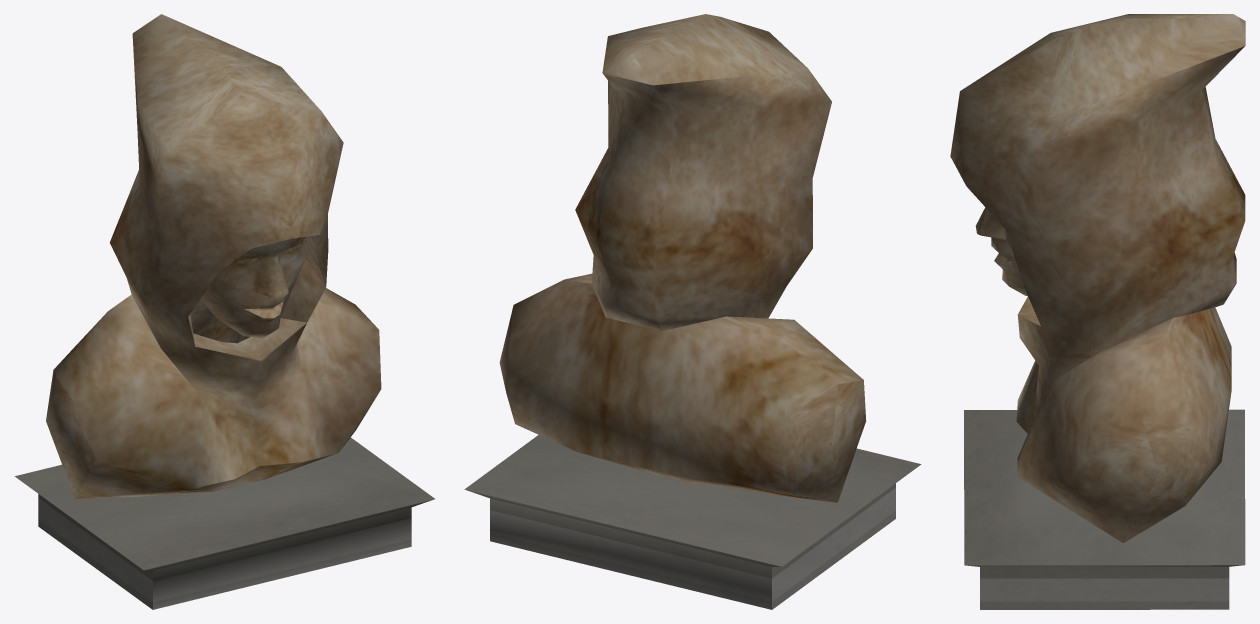
The model's file is cor1_prop_library_bustC.fbx.
3 views of the same model, side by side, from view 1: azimuth 30°, elevation 25°; view 2: azimuth 150°, elevation 25°; view 3: azimuth 270°, elevation 25° (orthographic). The views are drawn at different scales.
Visible parts, largest first — view 1: COR1_prop_library_bustC, polymsh26; view 2: COR1_prop_library_bustC, polymsh26; view 3: COR1_prop_library_bustC, polymsh26.
Part boxes in pixels (bbox=[...]): COR1_prop_library_bustC: bbox=[46, 14, 381, 498]; polymsh26: bbox=[15, 437, 434, 609]; COR1_prop_library_bustC: bbox=[499, 14, 866, 502]; polymsh26: bbox=[464, 435, 921, 609]; COR1_prop_library_bustC: bbox=[950, 14, 1245, 543]; polymsh26: bbox=[964, 409, 1245, 609].
Size of the model in its own units: 0.8173 by 1.26 by 0.6247.
